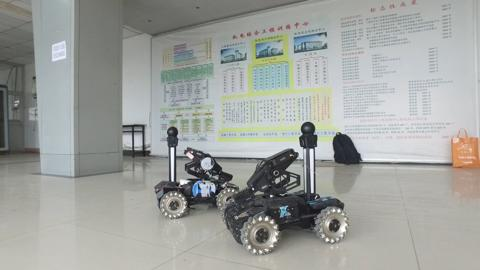chariot: (220, 115, 354, 255), (147, 124, 239, 219)
